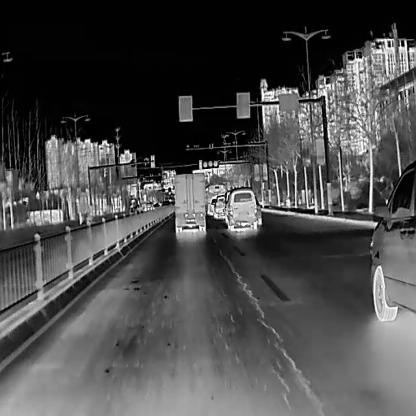bus: (206, 183, 226, 215)
car: (370, 157, 415, 322), (226, 186, 257, 229), (212, 194, 227, 220), (159, 198, 171, 212), (208, 197, 216, 216)
truck: (172, 172, 204, 232)
